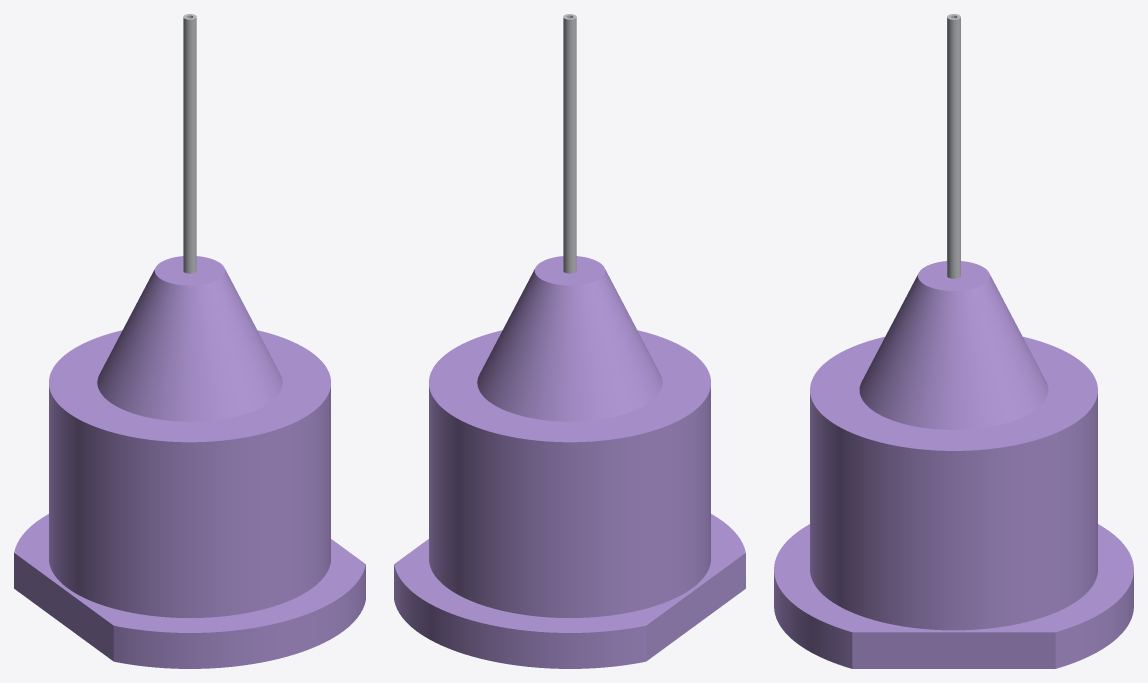
The model's file is needle_30g_efd_14in.glb.
3 views of the same model, side by side, from view 1: azimuth 30°, elevation 25°; view 2: azimuth 150°, elevation 25°; view 3: azimuth 270°, elevation 25° (orthographic). The views are drawn at different scales.
Parts seen in each view (by area): view 1: hub, needle; view 2: hub, needle; view 3: hub, needle.
Part boxes in pixels (x1=…): hub: x1=14, y1=256, x2=365, y2=668; needle: x1=183, y1=14, x2=196, y2=273; hub: x1=394, y1=256, x2=745, y2=668; needle: x1=563, y1=14, x2=576, y2=273; hub: x1=774, y1=261, x2=1133, y2=668; needle: x1=947, y1=14, x2=960, y2=278.
Size of the model in its own units: 0.0066 by 0.0145 by 0.008.
